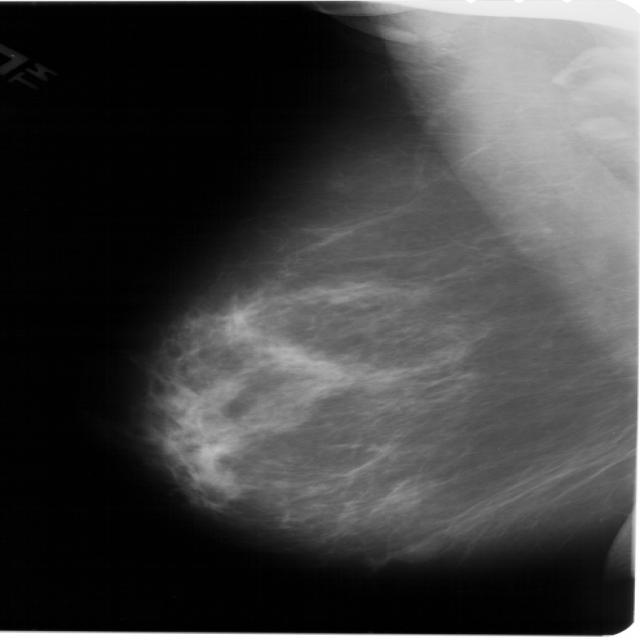tumour: (388, 535, 441, 562)
